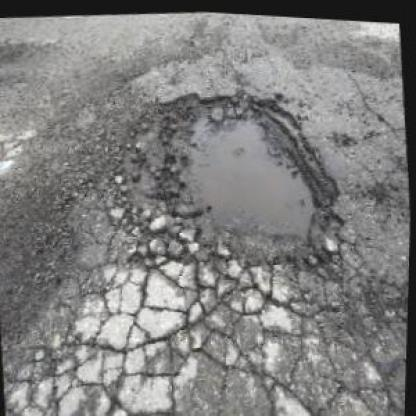pothole: (103, 67, 352, 291)
